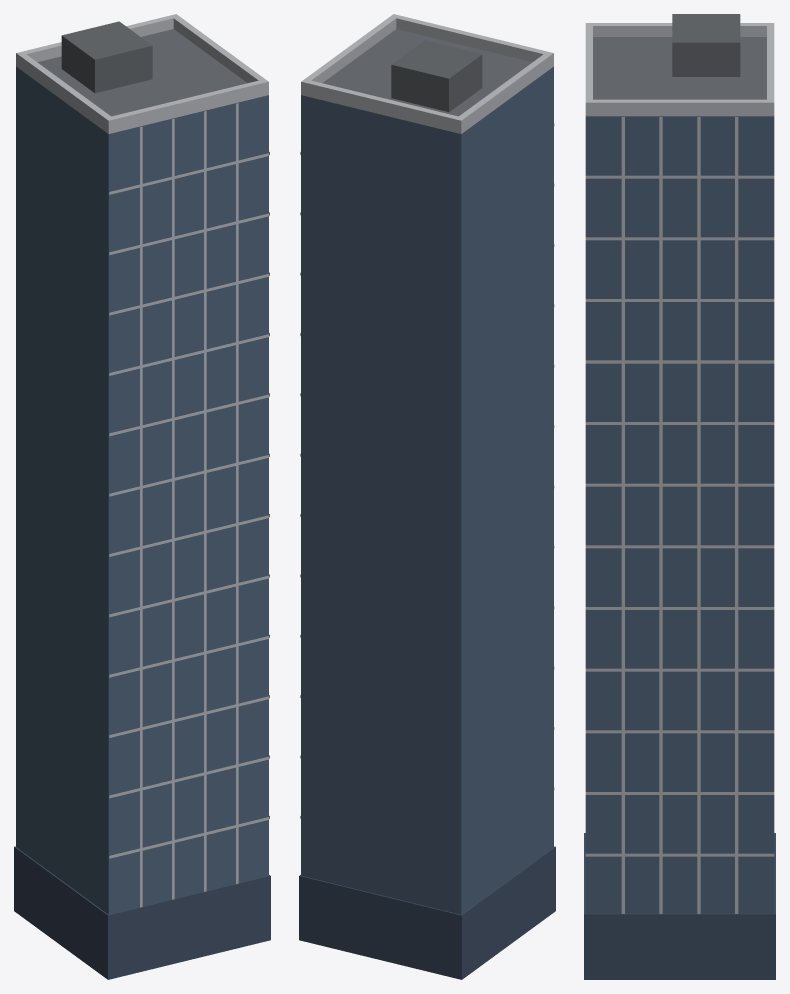
Rendered from towers_lvl2.glb.
The picture shows the model from 3 angles, left to right: view 1: azimuth 30°, elevation 25°; view 2: azimuth 150°, elevation 25°; view 3: azimuth 270°, elevation 25°; orthographic projection. The views are drawn at different scales.
Visible parts, largest first — view 1: towers; view 2: towers; view 3: towers.
Part boxes in pixels (x1,y1,x2,y2): towers: [14, 14, 270, 979]; towers: [299, 14, 555, 979]; towers: [584, 14, 775, 979].
Size of the model in its own units: 0.9071 by 4.69 by 0.9071.
